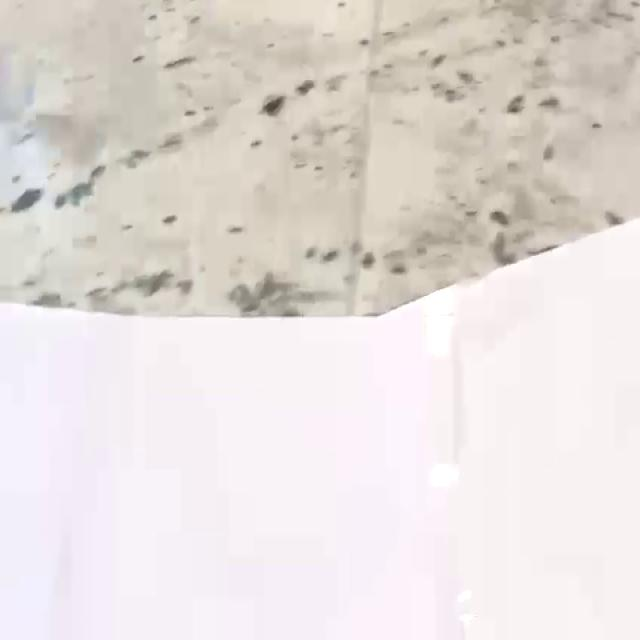road: (0, 217, 640, 640)
